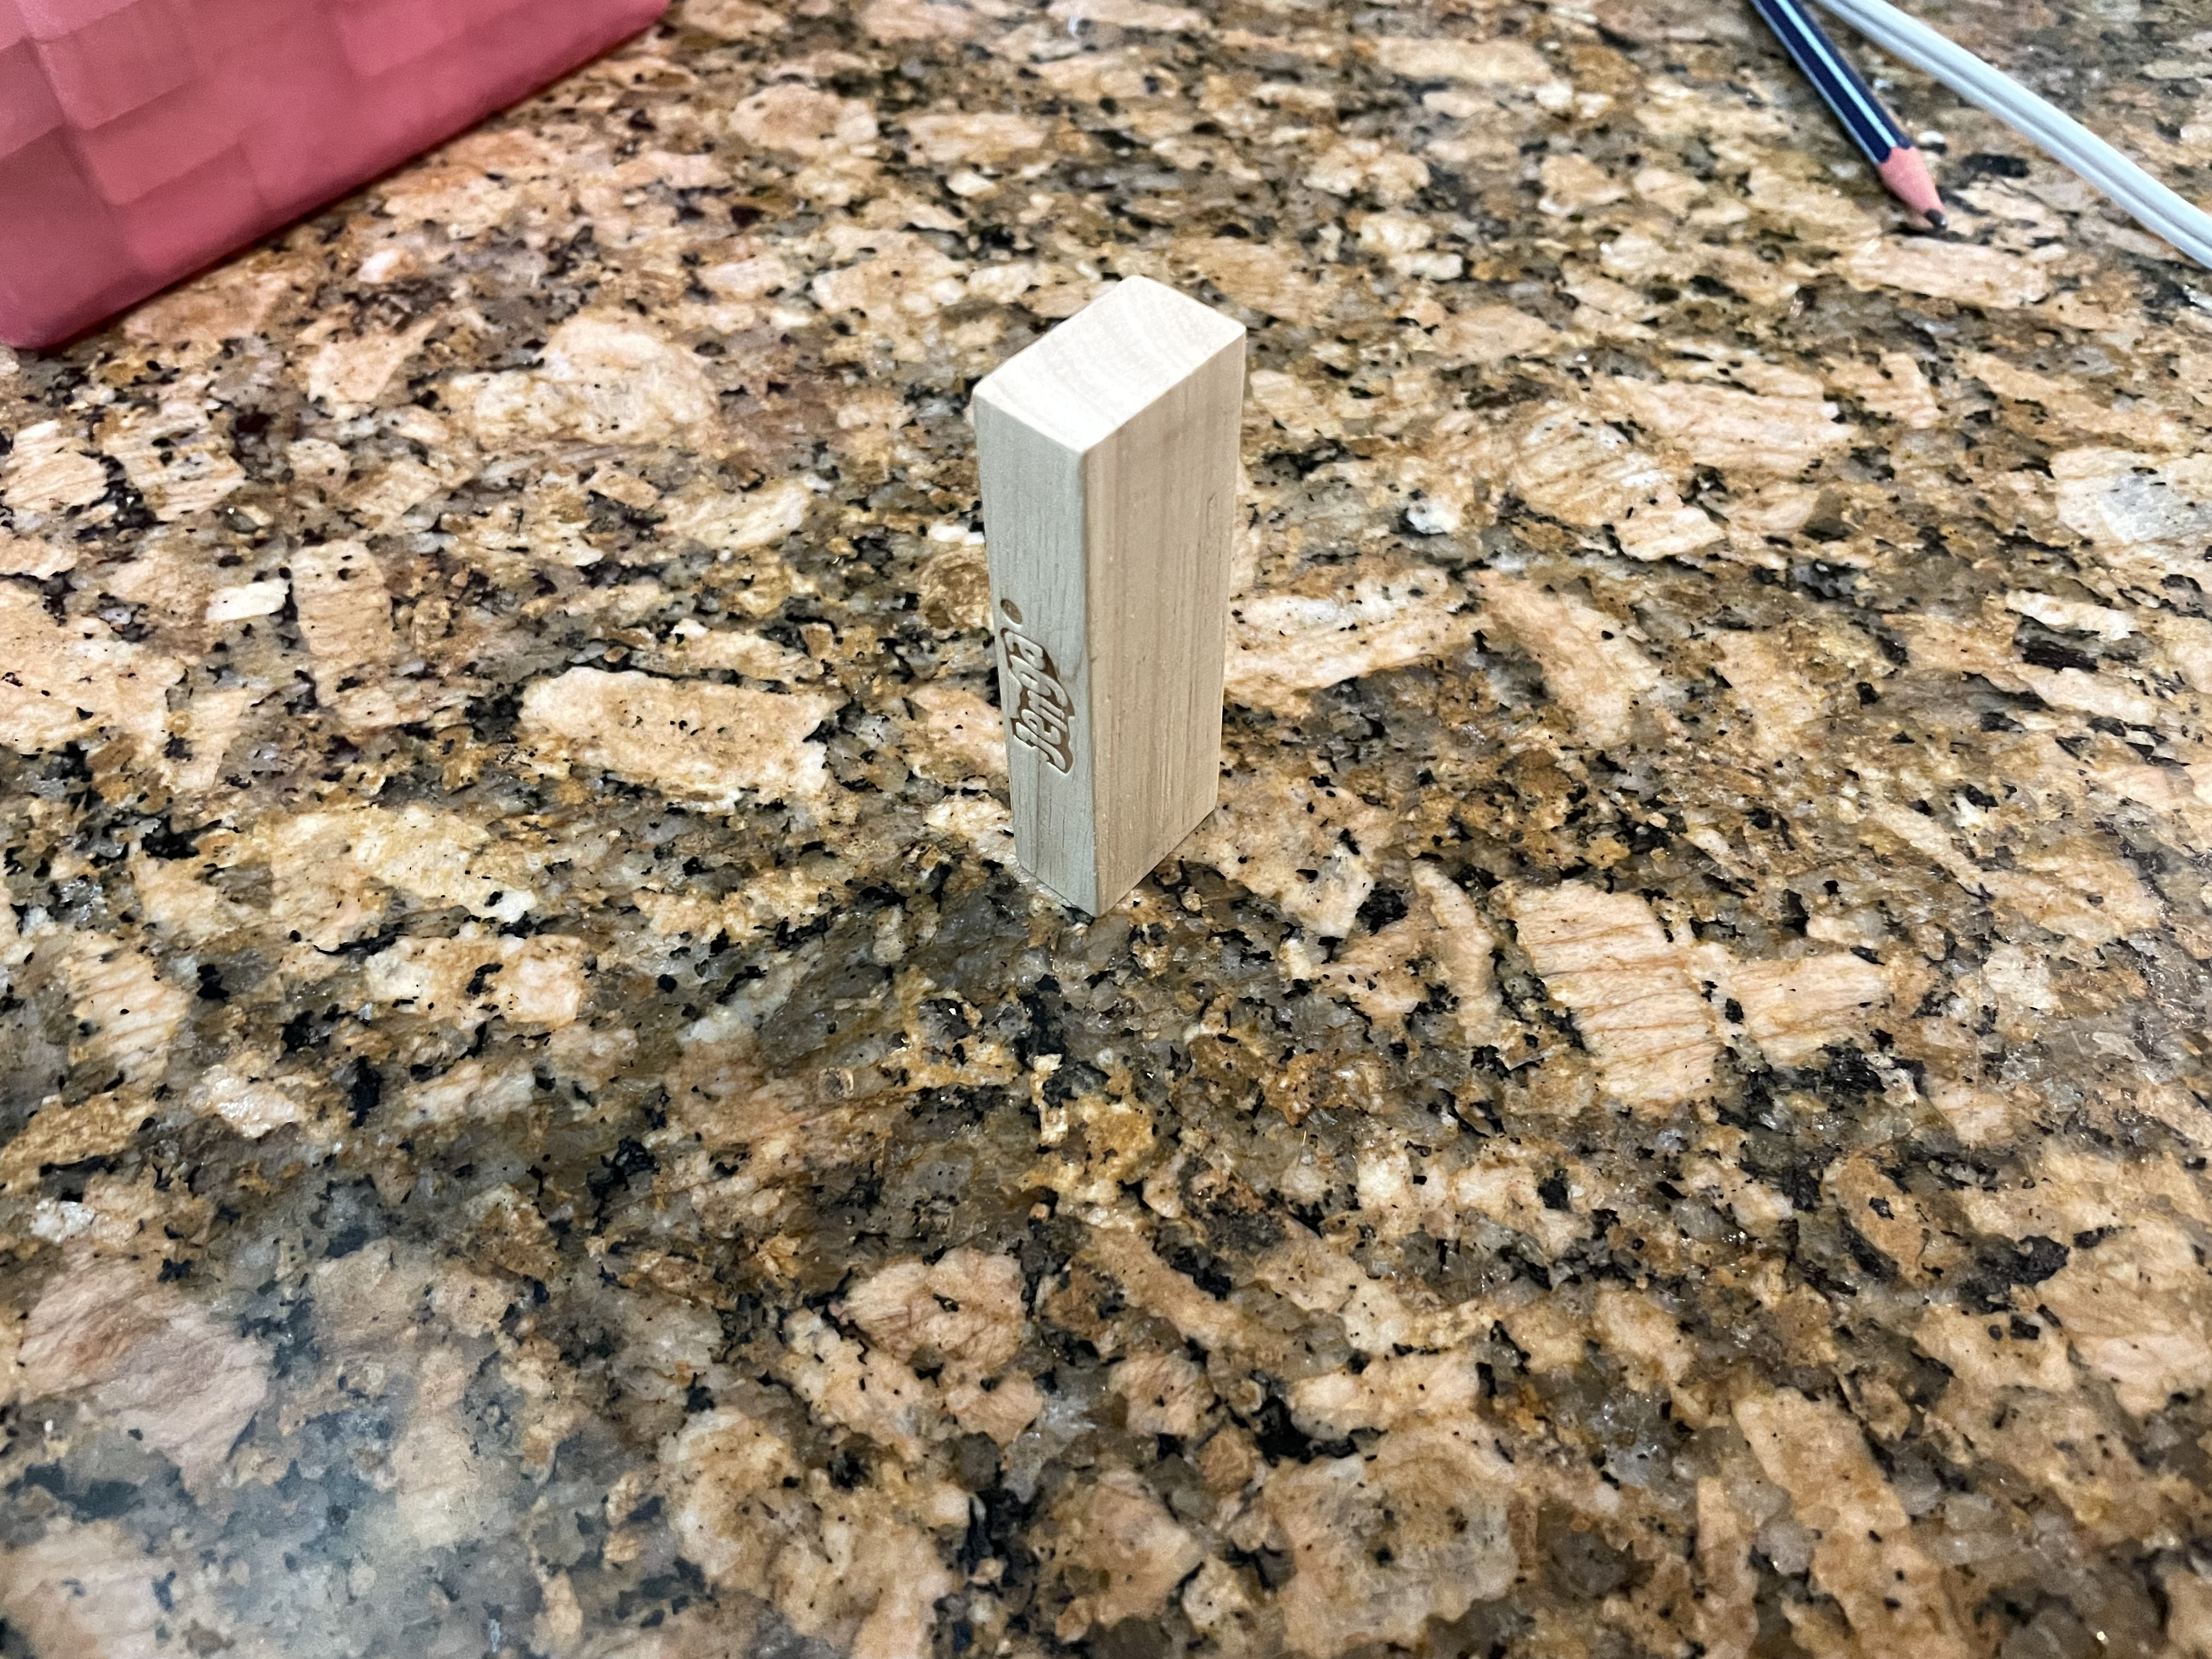jenga: (967, 277, 1252, 913)
